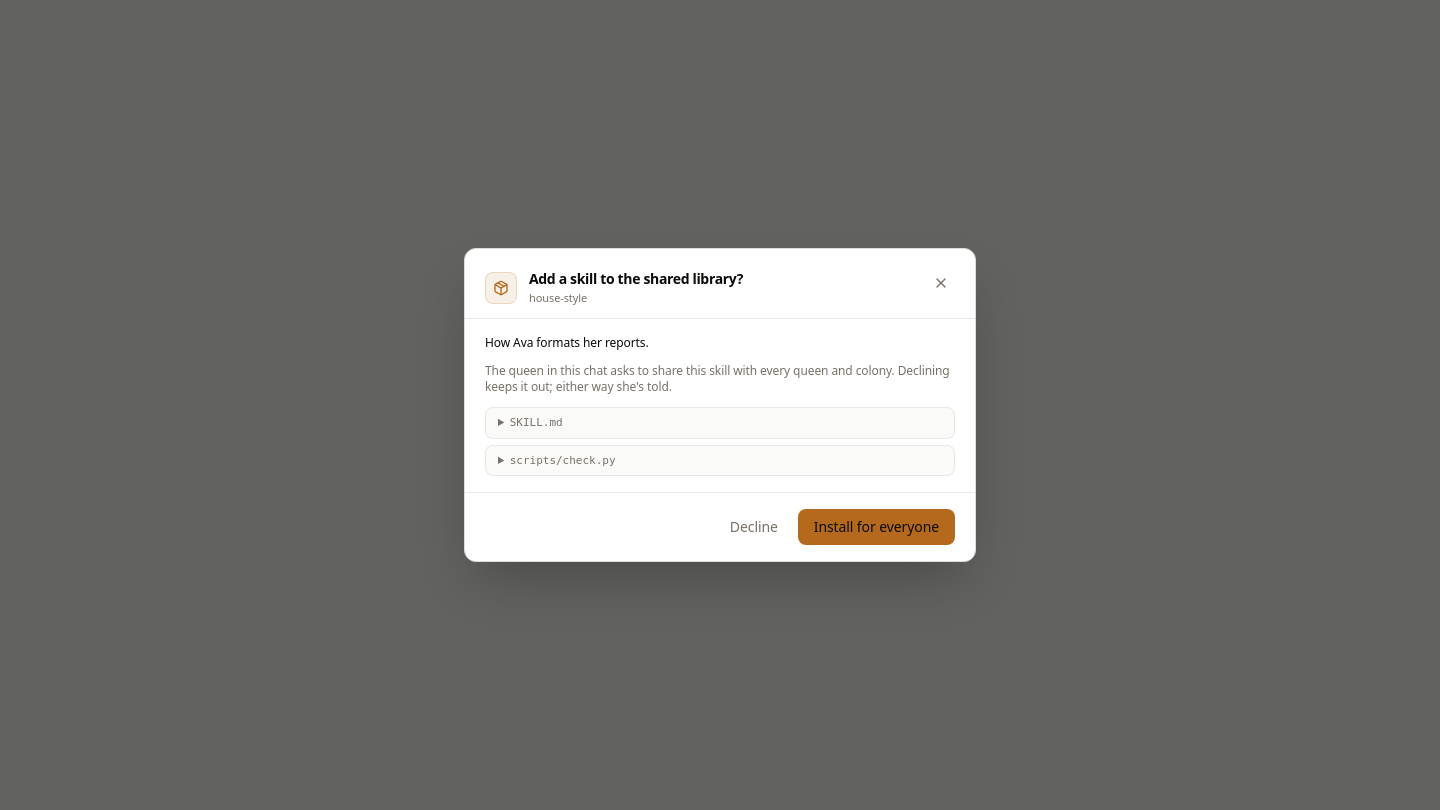
Test: SkillInstallConsent › keeps the prompt open and says why when the decision fails
Click the button "Install for everyone" at (876, 527), box [798, 509, 955, 545]
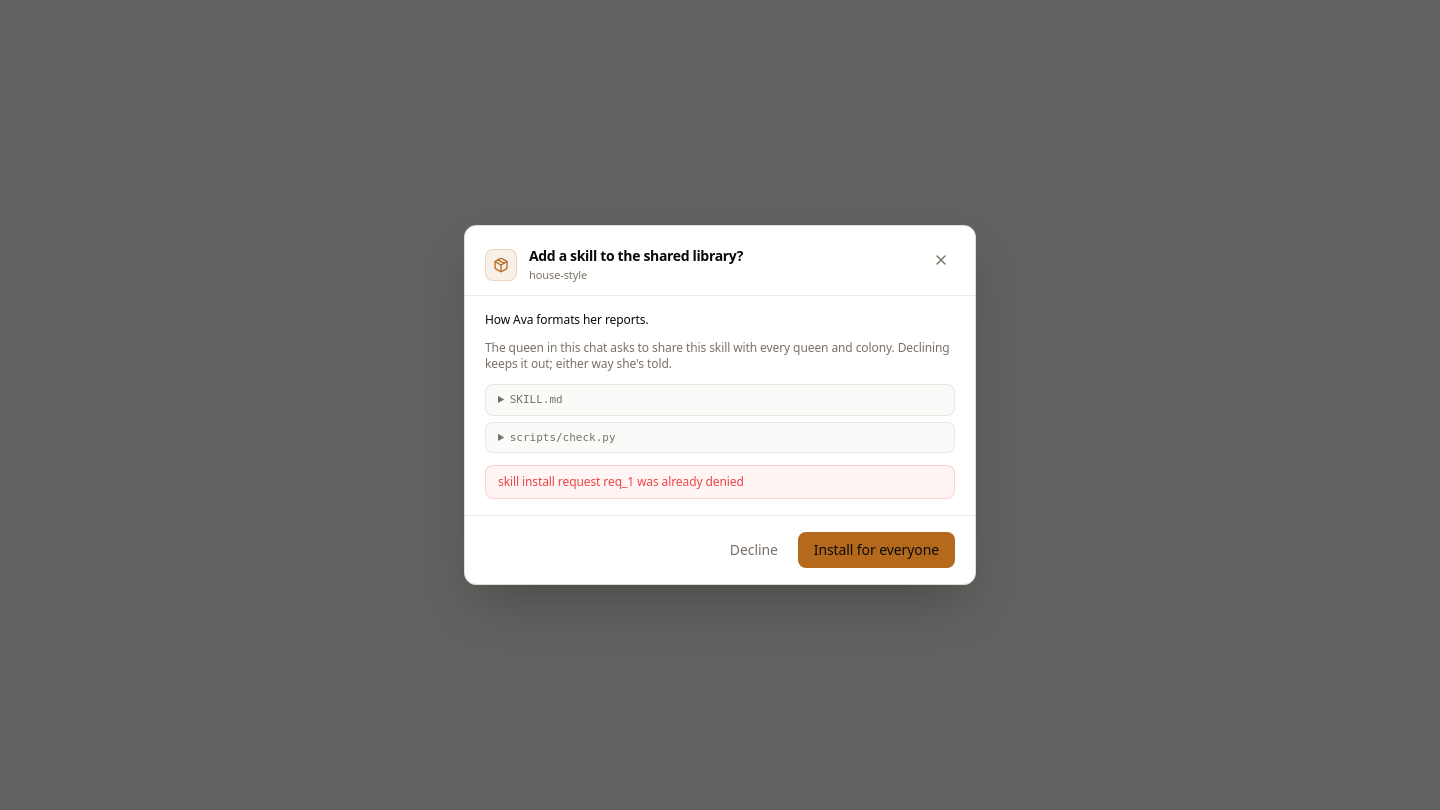
Expected: the heading "Add a skill to the shared library?" is shown, [529, 246, 743, 266]
Now the text "skill install request req_1 was already denied" is shown, box [485, 465, 955, 499]
